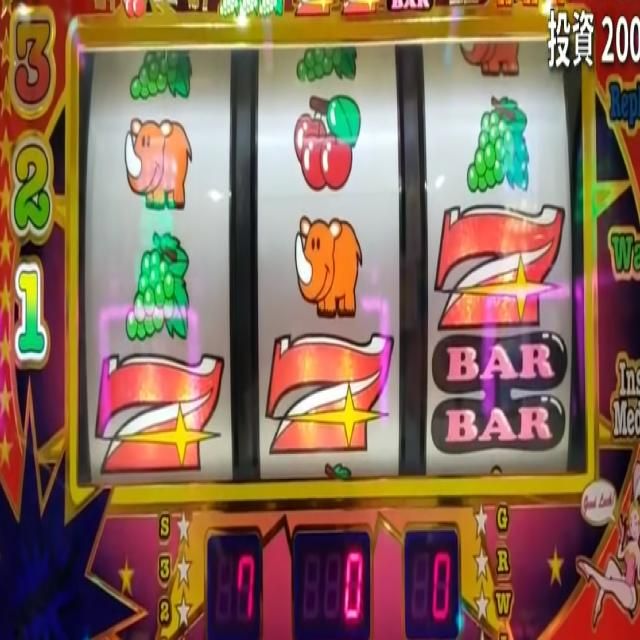bar: (430, 329, 570, 455), (386, 0, 434, 14)
cherry: (293, 94, 362, 192), (121, 0, 147, 20)
display: (76, 25, 587, 486)
elephant: (294, 212, 362, 319), (122, 115, 193, 212), (458, 43, 523, 78)
grape: (124, 229, 191, 344), (464, 92, 530, 196), (128, 50, 193, 103), (294, 44, 358, 86), (260, 0, 284, 19), (218, 0, 240, 18), (241, 0, 259, 19)
z: (433, 199, 566, 330), (263, 331, 393, 461), (94, 350, 224, 478), (290, 0, 334, 19), (339, 0, 379, 18)
